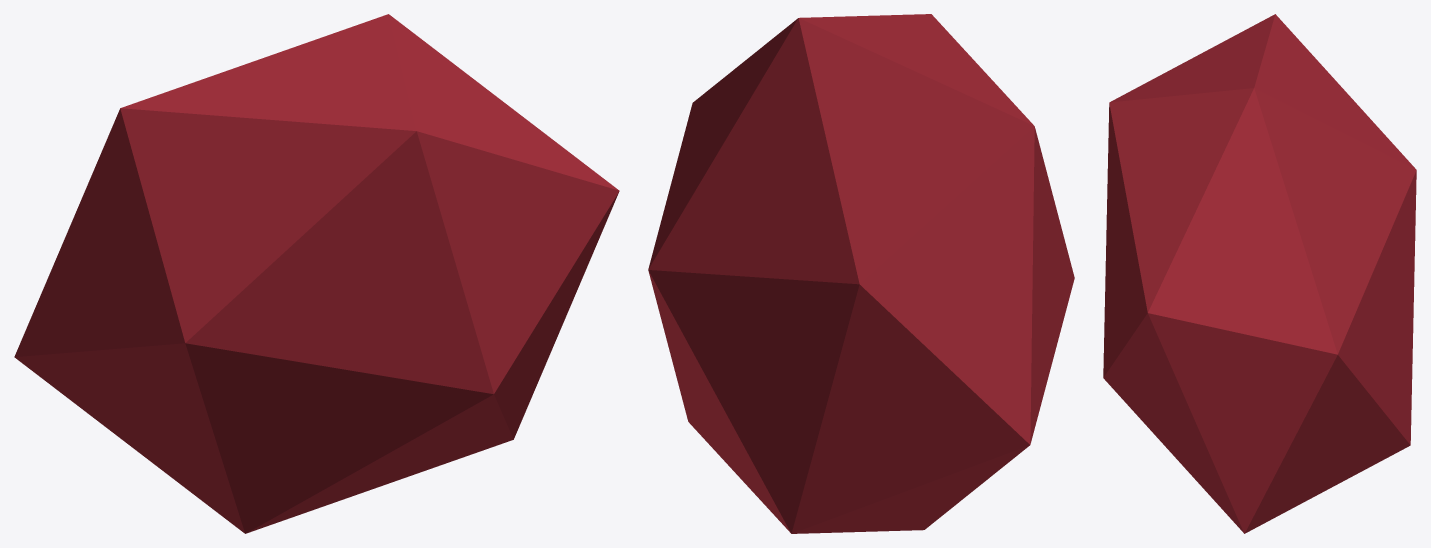
The model's file is gore_04.glb.
The picture shows the model from 3 angles, left to right: view 1: azimuth 30°, elevation 25°; view 2: azimuth 150°, elevation 25°; view 3: azimuth 270°, elevation 25°; orthographic projection. The views are drawn at different scales.
Visible parts, largest first — view 1: CHUNK; view 2: CHUNK; view 3: CHUNK.
Part boxes in pixels (x1,y1,x2,y2): CHUNK: [14, 14, 619, 533]; CHUNK: [648, 14, 1074, 533]; CHUNK: [1103, 14, 1416, 533].
Bounding box in the file's own units: 0.079 × 0.0777 × 0.0513.
